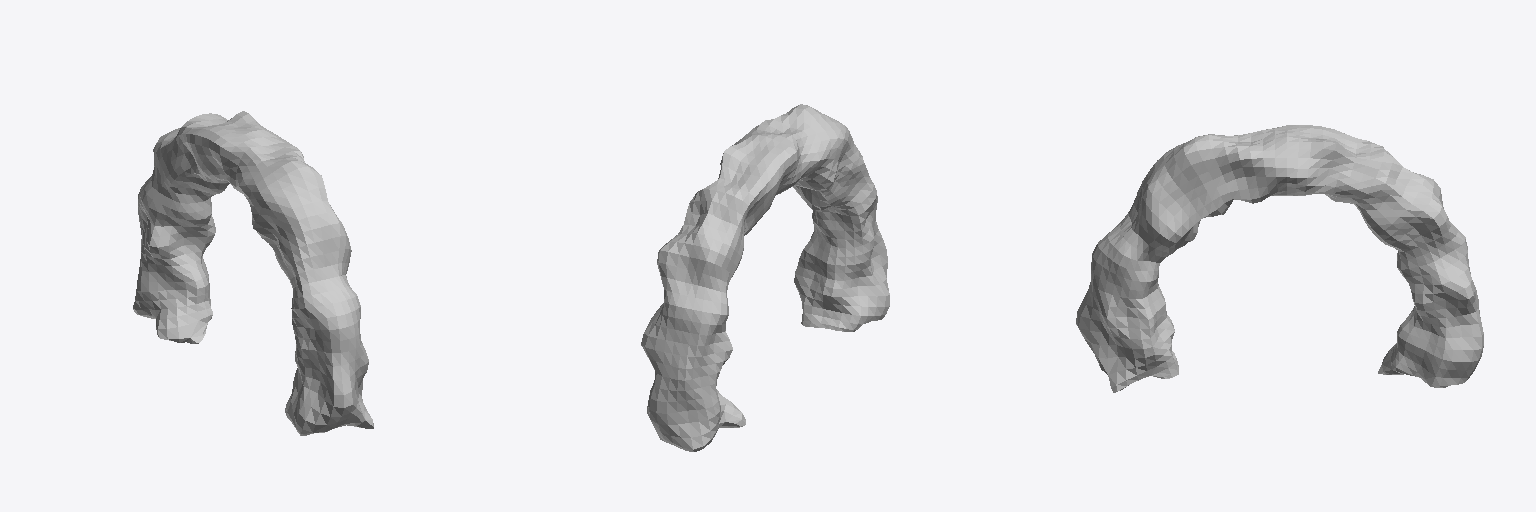
Rendered from char_arch.obj.
The picture shows the model from 3 angles: view 1: azimuth 30°, elevation 25°; view 2: azimuth 150°, elevation 25°; view 3: azimuth 270°, elevation 25°; orthographic projection.
Parts seen in each view (by area): view 1: Torus; view 2: Torus; view 3: Torus.
Boxes of the visible parts, <box> form: Torus: <box>133,111,373,435</box>; Torus: <box>641,104,889,451</box>; Torus: <box>1076,125,1483,392</box>.
Bounding box in the file's own units: 1.65 × 5.04 × 7.62.